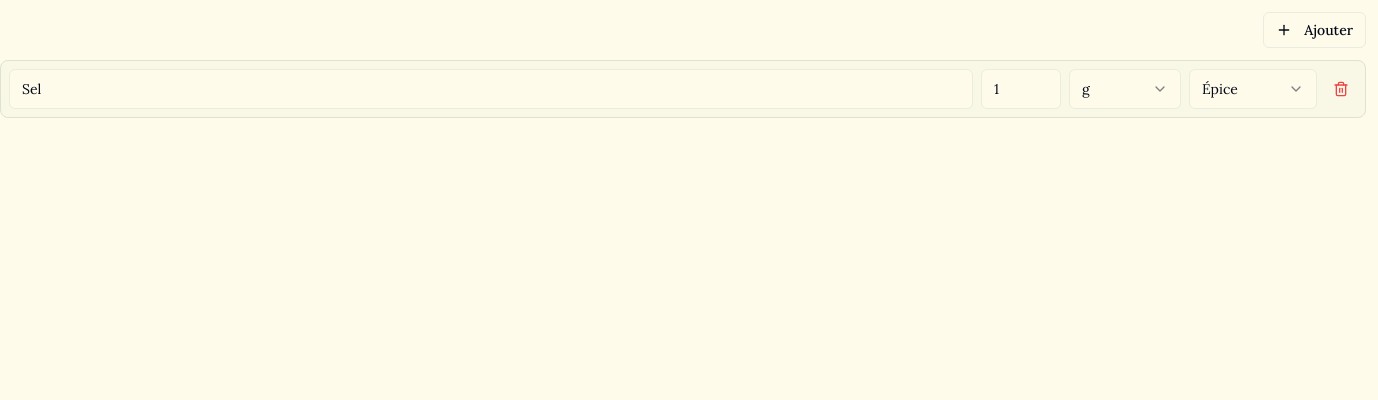
Test case: IngredientEditor — sélection de l'unité › affiche toutes les unités disponibles à l'ouverture du sélecteur
The width and height of the screenshot is (1378, 400).
Step 1. Click the dropdown labelled "g" → coordinates (1125, 89), box [1069,69,1181,109]
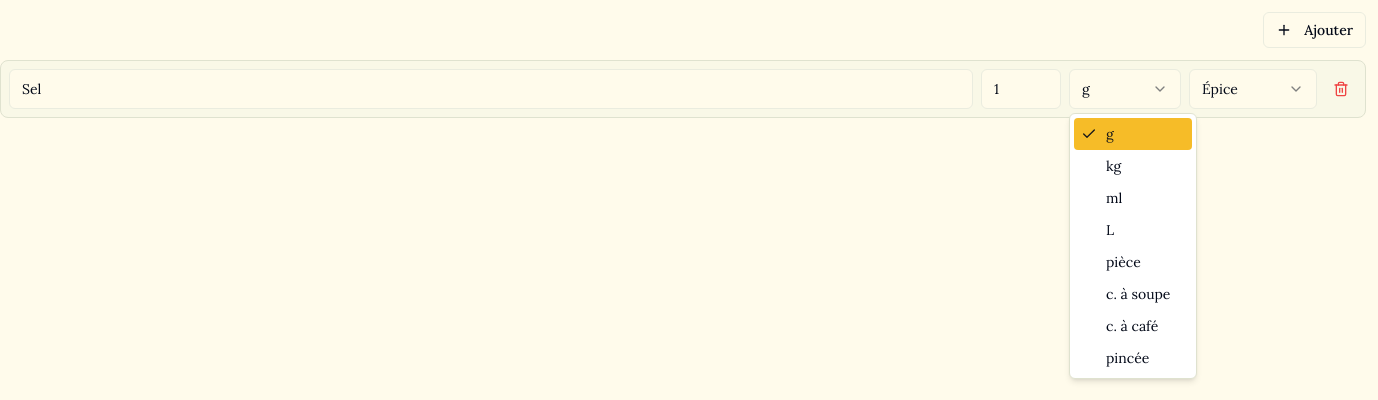
Now the option "kg" is shown, box [1106,157,1121,175]
Now the option "ml" is shown, box [1106,189,1122,207]
Now the option "L" is shown, box [1106,221,1114,239]
